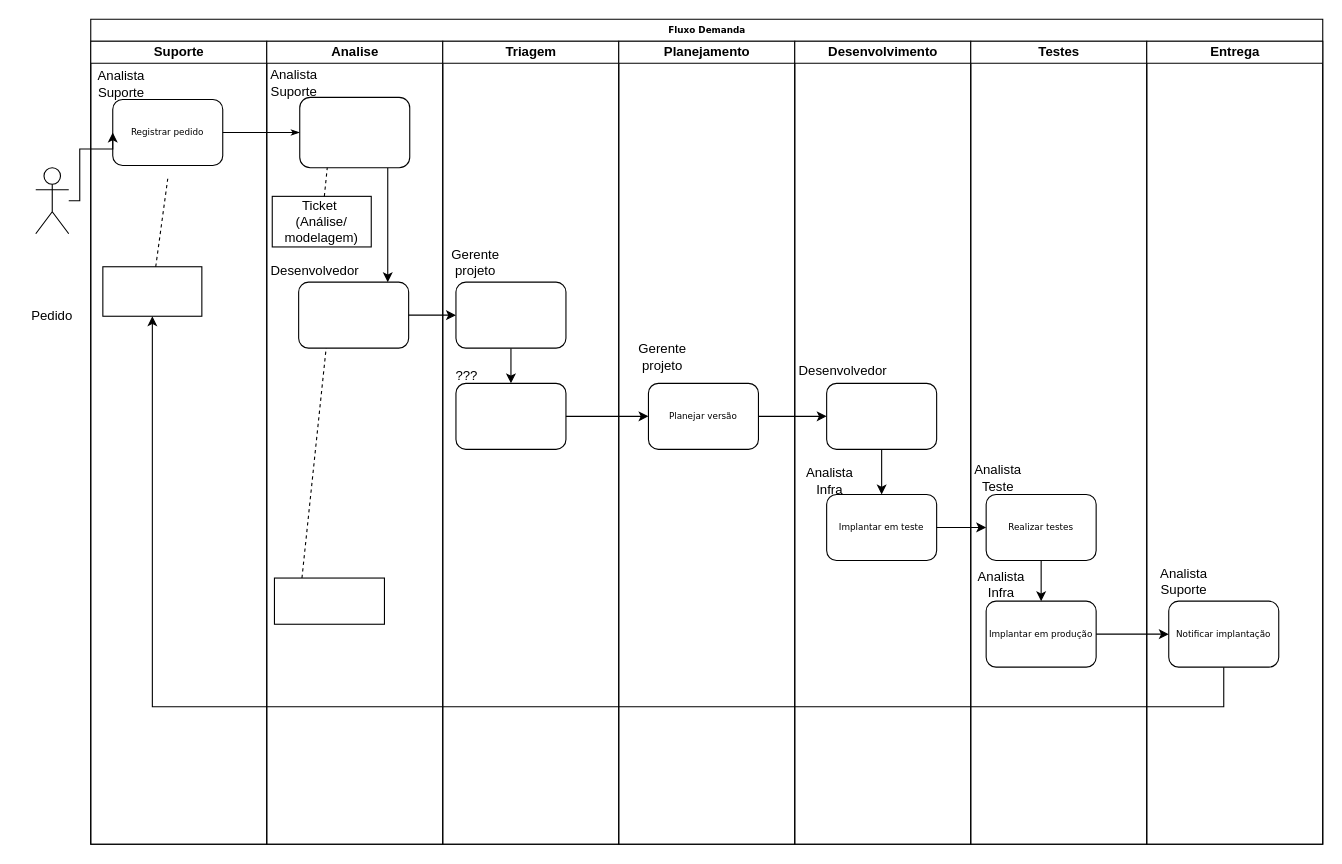
The diagram is 1342 pixels wide and 864 high, and some of its shapes have lost their labels. The shapes that lost their labels are listed below. From the top down, each one's centre as x and y in pixels, then its label:
the point at 354,132: Analisar demanda cliente
the point at 52,200: Ciente
the point at 152,291: Ticket (suporte)
the point at 353,314: Criar demanda programação
the point at 510,314: Realizar triagem
the point at 510,415: Realizar estimativa
the point at 881,415: Desenvolver solução
the point at 328,600: Ticket (Programação)
